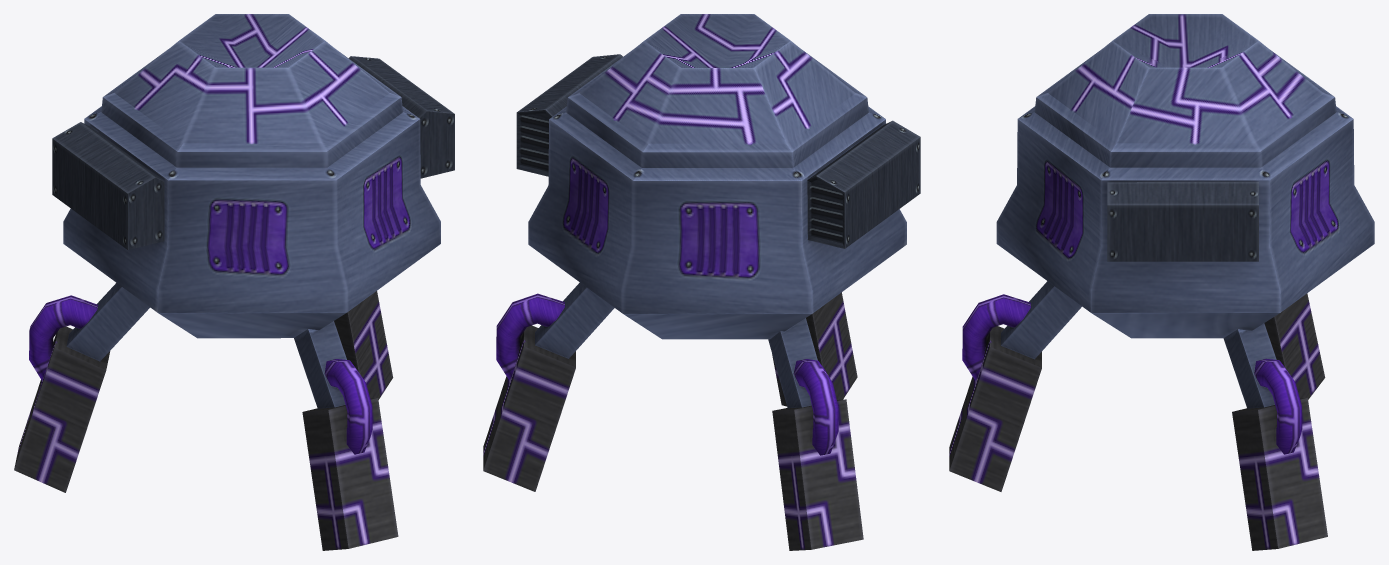
The model's file is nexus2.FBX.
3 renders of one model, left to right at view 1: azimuth 30°, elevation 25°; view 2: azimuth 150°, elevation 25°; view 3: azimuth 270°, elevation 25°, orthographic.
Parts seen in each view (by area): view 1: Cylinder049; view 2: Cylinder049; view 3: Cylinder049.
Boxes of the visible parts, box(x1,y1,x2,y2) form: Cylinder049: box(14, 14, 454, 550); Cylinder049: box(483, 14, 920, 550); Cylinder049: box(949, 14, 1374, 550).
Bounding box in the file's own units: 36.56 × 40.3 × 35.47.
